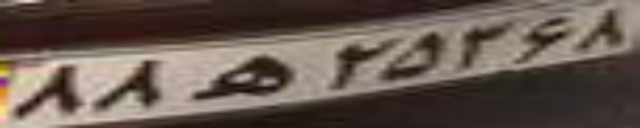2: (333, 36, 395, 89)
3: (458, 20, 511, 69)
5: (387, 29, 441, 78)
6: (520, 15, 571, 62)
8: (13, 63, 79, 116), (95, 59, 164, 109), (580, 8, 624, 50)
he: (188, 54, 297, 98)
